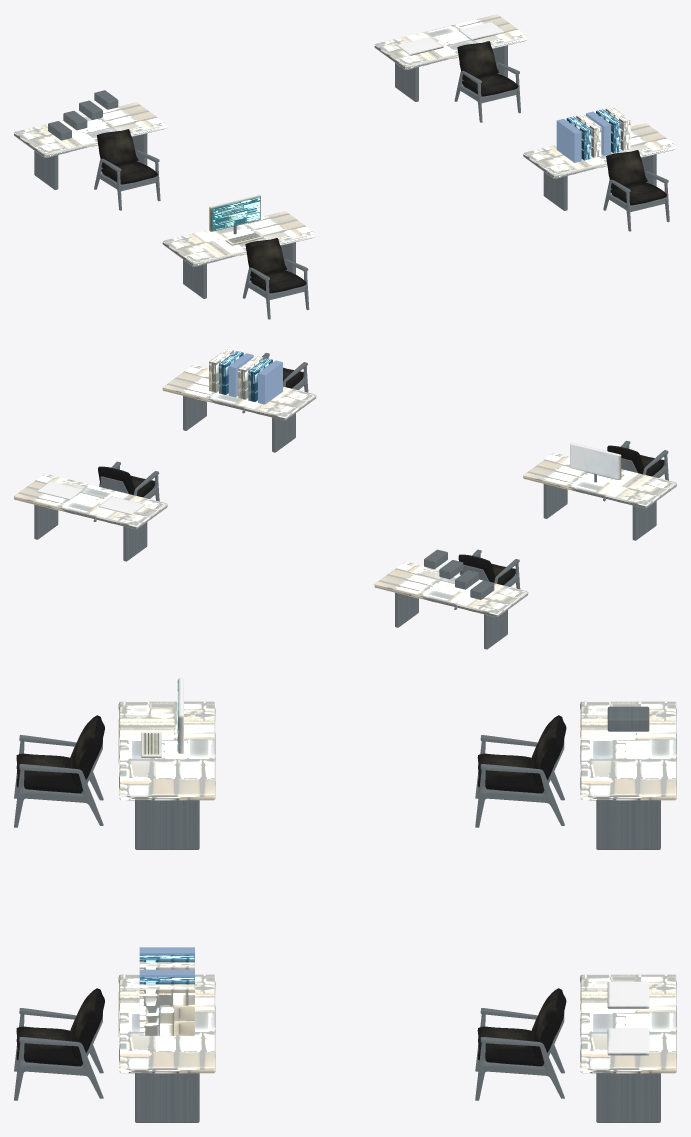
File: experience.glb
3 views of the same model, one above another, from view 1: azimuth 30°, elevation 25°; view 2: azimuth 150°, elevation 25°; view 3: azimuth 270°, elevation 25° (orthographic). The views are drawn at different scales.
Visible parts, largest first — view 1: Static_experience; view 2: Static_experience; view 3: Static_experience.
Part boxes in pixels (box(x1,y1,x2,y2)): Static_experience: box(14, 14, 676, 319); Static_experience: box(14, 348, 676, 649); Static_experience: box(14, 678, 676, 1122).
Bounding box in the file's own units: 9.4 × 1.42 × 7.19.
8 materials, 4 textured.
